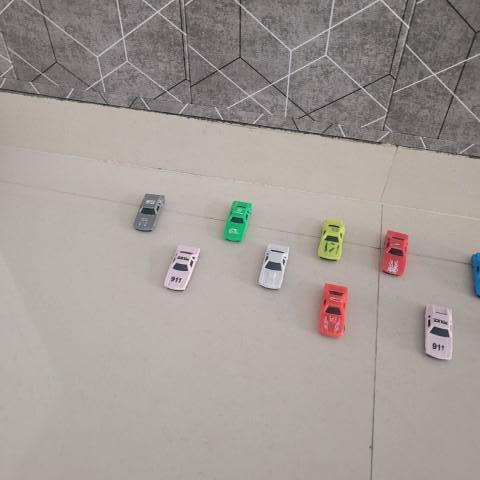car: (157, 242, 205, 292), (315, 276, 349, 340), (420, 301, 455, 359), (256, 241, 289, 290), (132, 190, 167, 236), (381, 228, 412, 277), (221, 202, 253, 244), (316, 217, 345, 262)
